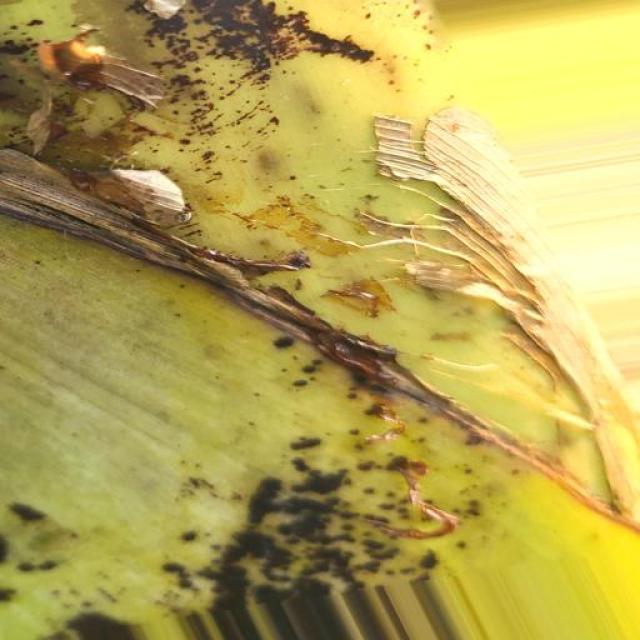Anthracnose: (4, 8, 640, 629)
